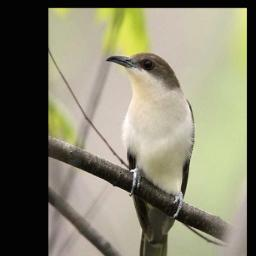Cuckoo: (105, 51, 195, 256)
